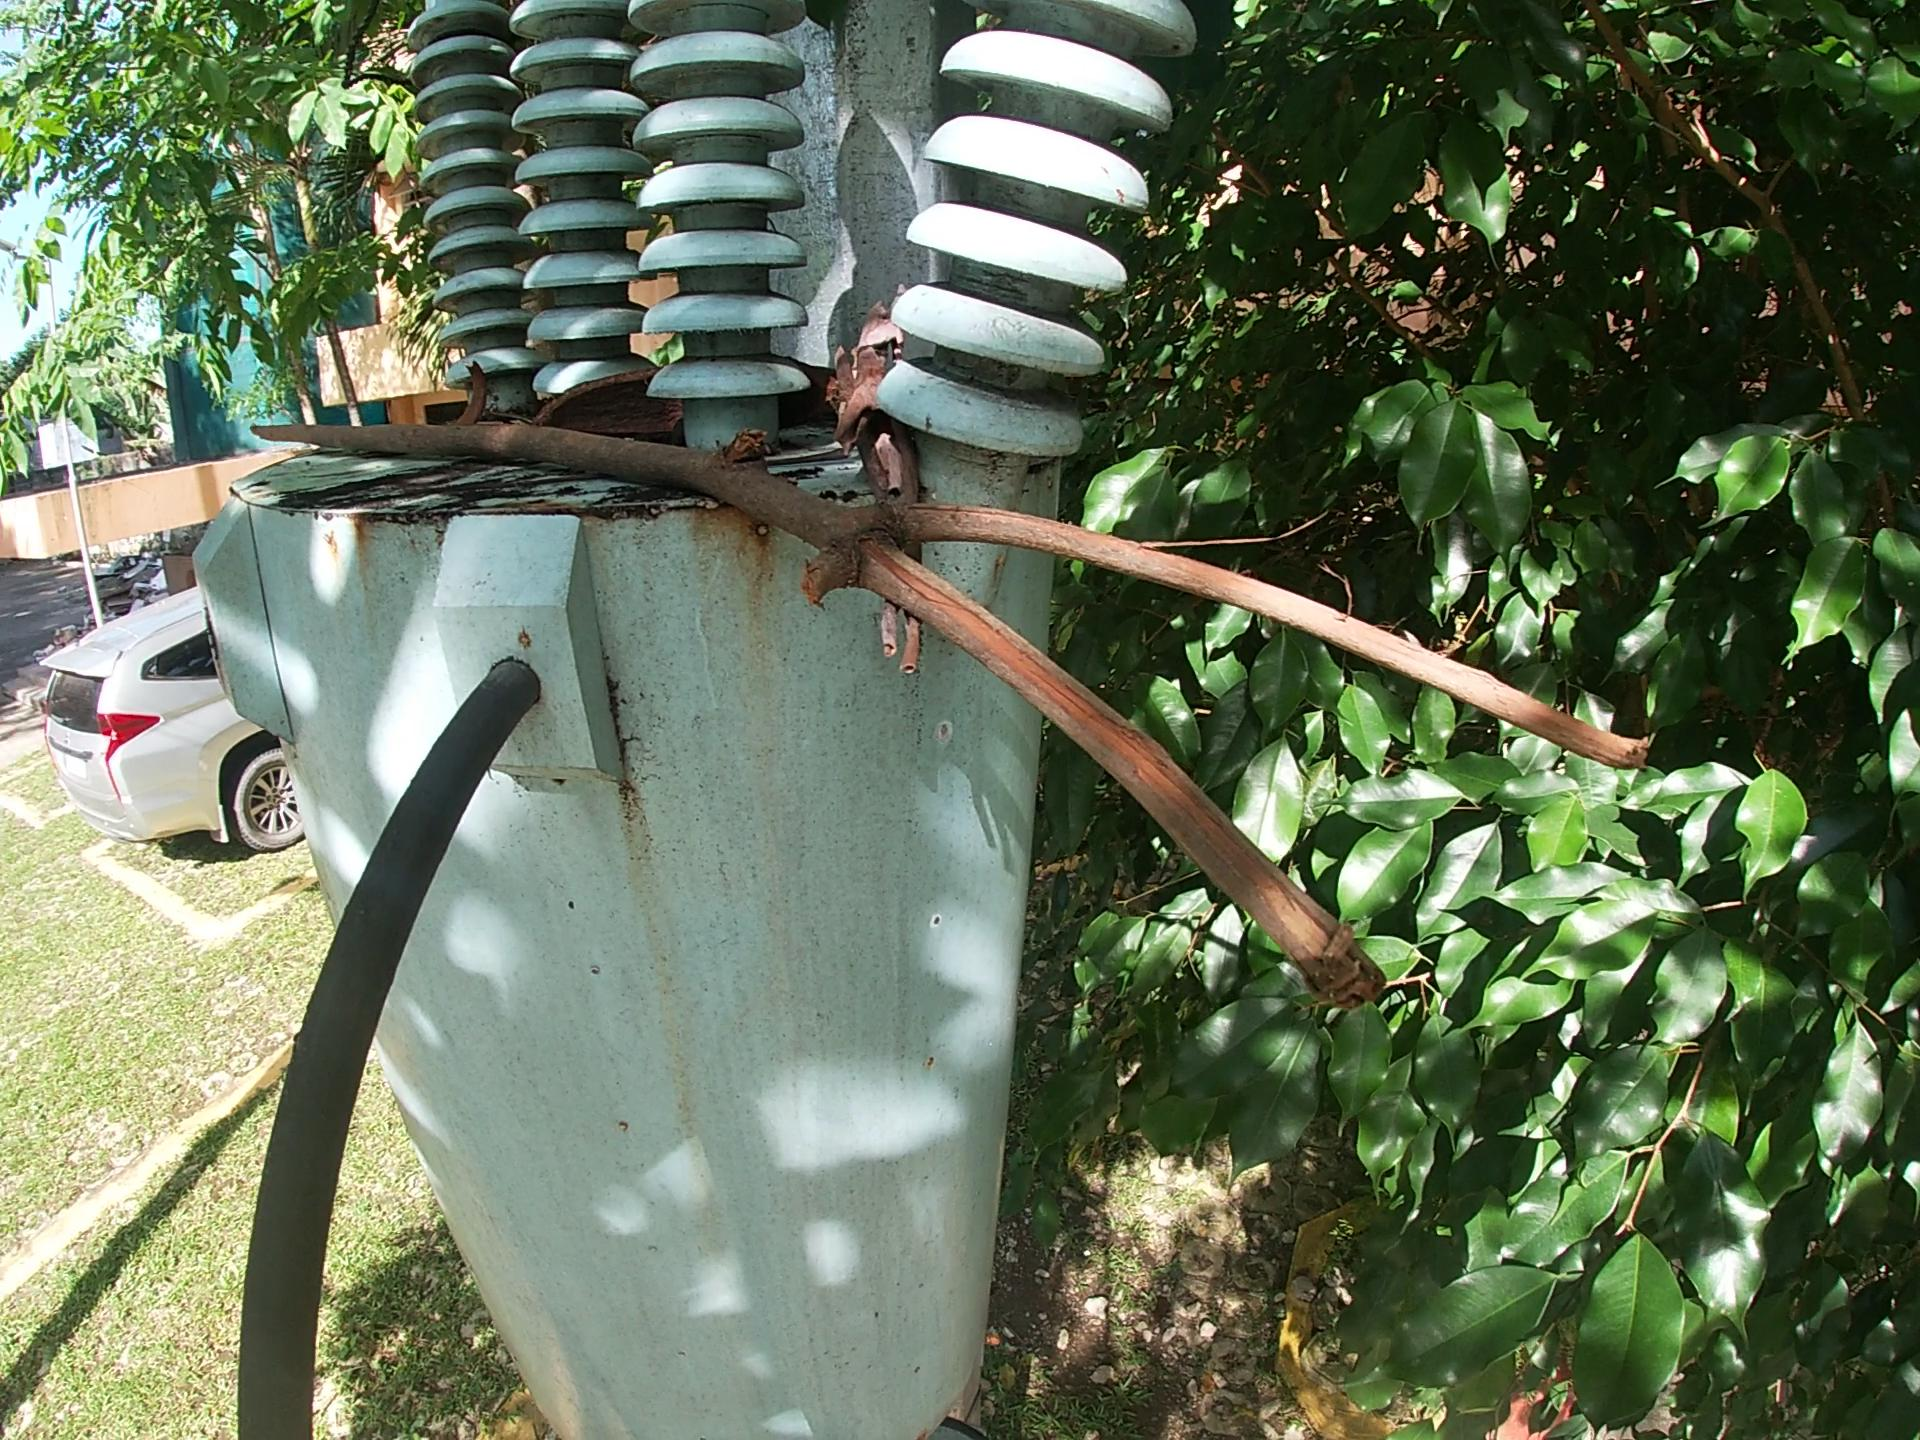mahogany fruit: (534, 352, 842, 448), (447, 362, 496, 427)
tree branch: (237, 410, 1655, 1021), (819, 290, 928, 685)
